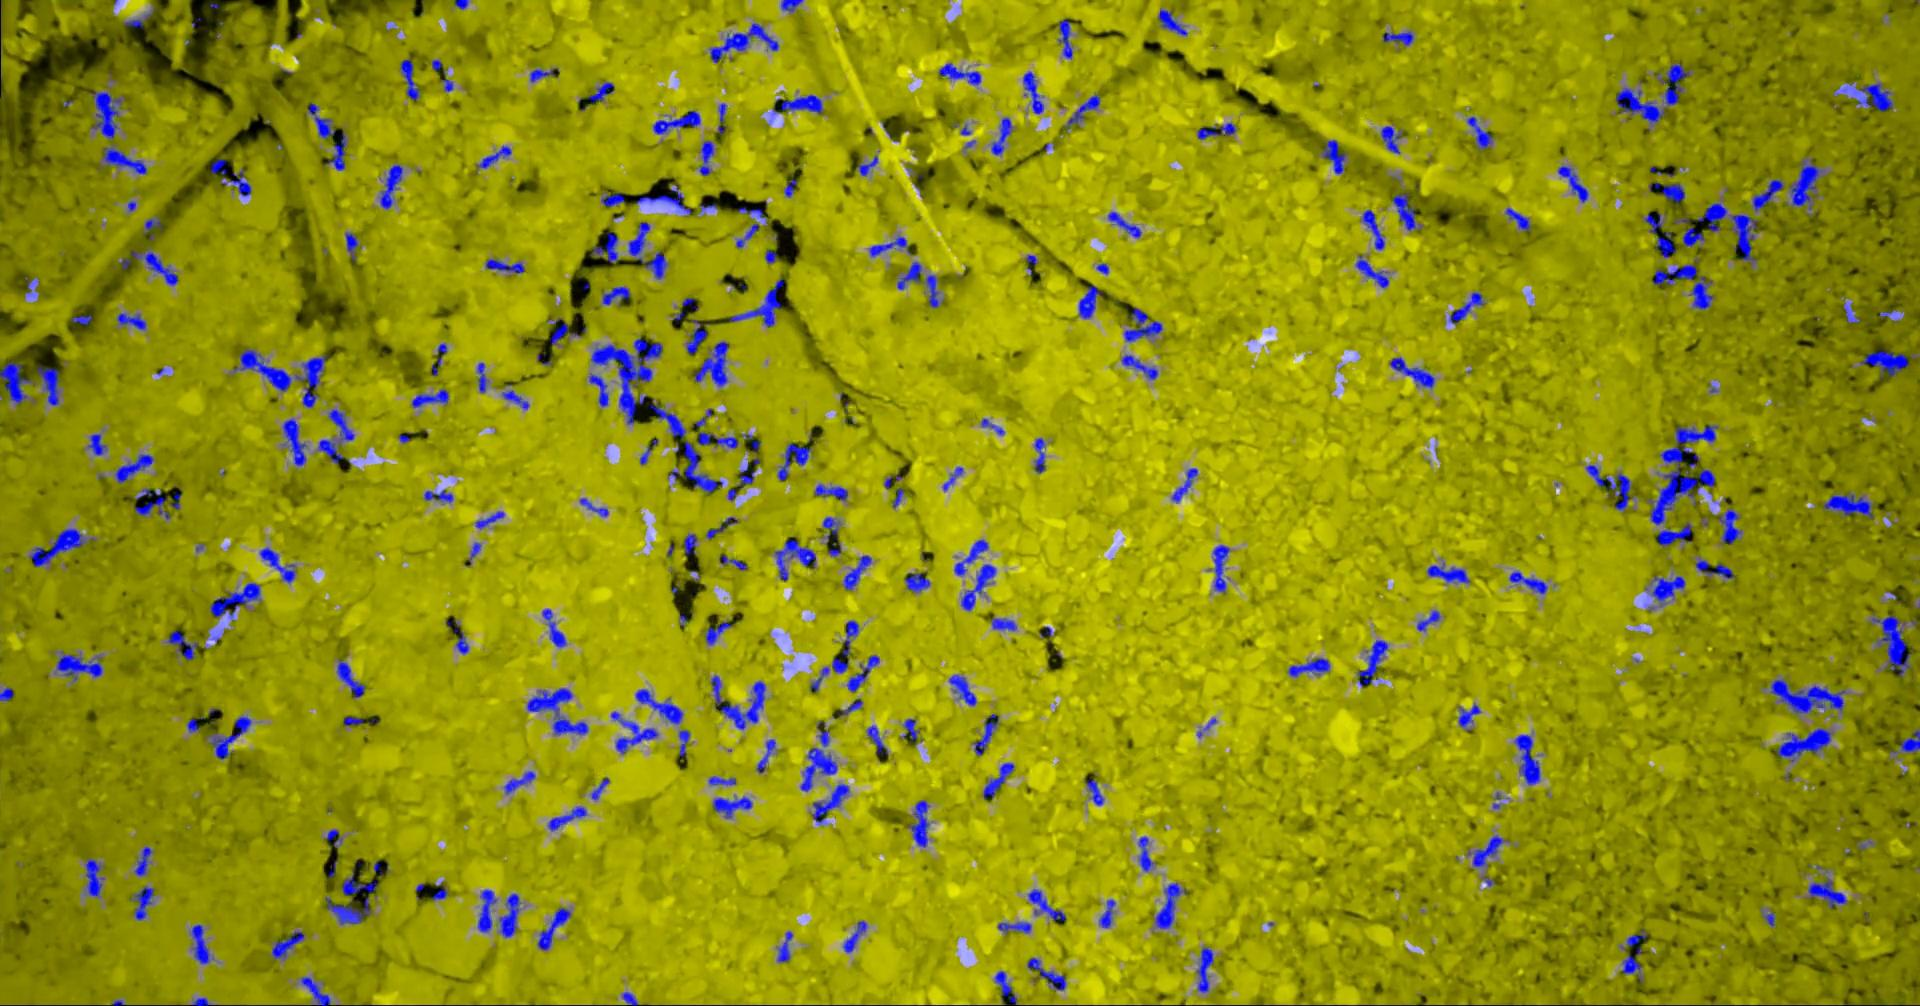ant: (710, 674, 764, 728), (667, 439, 723, 492), (325, 868, 377, 923), (526, 688, 588, 734), (709, 23, 778, 62), (728, 278, 783, 326), (800, 720, 836, 791), (1870, 615, 1910, 676), (629, 221, 667, 279), (897, 260, 943, 307), (1585, 464, 1630, 511), (29, 528, 85, 567), (317, 409, 354, 464), (610, 711, 657, 753), (210, 582, 260, 620), (210, 714, 251, 760), (1777, 727, 1832, 761), (130, 246, 178, 285), (1615, 86, 1665, 123), (775, 539, 815, 580), (960, 564, 996, 610), (635, 688, 682, 723), (88, 91, 121, 138), (210, 158, 250, 196), (1790, 159, 1821, 210), (811, 782, 850, 823), (635, 185, 690, 213), (695, 340, 728, 386), (1154, 882, 1186, 929), (537, 907, 570, 950), (1859, 351, 1912, 377), (1356, 640, 1387, 686), (1389, 357, 1434, 387), (649, 399, 684, 437), (809, 657, 848, 691), (1656, 64, 1689, 104), (56, 652, 102, 681), (1620, 929, 1646, 981), (1514, 734, 1540, 784), (0, 361, 30, 404), (952, 539, 988, 575), (1123, 307, 1162, 340), (1026, 956, 1065, 989), (1822, 494, 1873, 520), (1065, 94, 1100, 131), (777, 442, 810, 480), (1730, 213, 1756, 260), (259, 547, 295, 582), (1029, 888, 1065, 921), (102, 147, 146, 174), (846, 655, 879, 691), (1557, 165, 1589, 202), (983, 762, 1015, 799), (1807, 878, 1846, 907), (282, 418, 306, 465), (1468, 835, 1503, 866), (971, 713, 998, 754), (114, 453, 152, 483), (651, 111, 700, 133), (135, 488, 169, 520), (907, 800, 930, 847), (378, 164, 403, 208), (1854, 83, 1892, 111), (337, 659, 364, 697), (1355, 255, 1388, 287), (1449, 292, 1483, 323), (1392, 193, 1420, 230), (1752, 179, 1783, 211), (499, 893, 521, 937), (843, 555, 871, 589), (309, 103, 335, 138), (36, 365, 58, 405), (1651, 575, 1684, 603), (270, 930, 303, 958), (541, 608, 565, 647), (1465, 116, 1492, 150), (1107, 211, 1142, 238), (547, 318, 582, 344), (1171, 467, 1197, 502), (938, 62, 980, 84), (869, 235, 910, 257), (1652, 264, 1697, 285), (1361, 210, 1384, 249), (190, 923, 213, 963), (1697, 202, 1727, 231), (168, 630, 197, 661), (300, 976, 330, 1005), (1211, 544, 1229, 593), (399, 57, 419, 100), (776, 94, 822, 113), (1657, 521, 1691, 546), (547, 807, 585, 829), (1121, 354, 1157, 379), (1022, 71, 1043, 113), (949, 674, 977, 705), (712, 796, 752, 818), (1717, 508, 1741, 542), (444, 619, 469, 653), (1426, 563, 1469, 582), (1509, 572, 1547, 593), (477, 889, 497, 932), (475, 145, 510, 168), (1288, 657, 1330, 676), (1322, 138, 1345, 173), (994, 970, 1017, 1005), (1158, 9, 1187, 36), (590, 232, 617, 262), (1648, 180, 1684, 202), (842, 920, 866, 951), (1690, 276, 1713, 309), (1078, 285, 1101, 318), (130, 887, 152, 920), (326, 131, 345, 170), (822, 517, 841, 556), (1695, 559, 1735, 578), (990, 117, 1011, 154), (1196, 948, 1213, 992), (697, 431, 738, 448), (411, 387, 448, 406), (686, 319, 706, 353), (504, 770, 535, 793), (705, 517, 737, 539), (85, 857, 103, 895), (735, 459, 759, 486), (588, 373, 608, 406), (841, 620, 858, 655), (1197, 122, 1236, 138), (756, 739, 775, 772), (1505, 207, 1530, 231), (705, 621, 731, 644), (1458, 704, 1481, 730), (587, 81, 615, 103), (1380, 124, 1402, 152), (485, 258, 524, 273), (867, 725, 888, 754), (814, 483, 847, 500), (1058, 19, 1072, 58), (1138, 836, 1153, 871), (135, 846, 152, 876), (430, 343, 447, 375), (735, 224, 758, 246), (475, 511, 504, 528), (1655, 231, 1675, 257), (904, 572, 930, 592), (502, 390, 528, 409), (1084, 779, 1103, 805), (116, 312, 146, 329), (776, 931, 792, 962), (698, 140, 712, 175), (602, 286, 630, 304), (579, 498, 607, 516), (942, 466, 963, 490), (1681, 226, 1704, 246), (1416, 610, 1439, 630), (1898, 729, 1919, 752), (123, 13, 151, 29), (1098, 899, 1115, 927), (1382, 30, 1413, 44), (856, 155, 877, 175), (143, 216, 163, 239), (639, 439, 657, 464), (530, 67, 557, 83), (717, 554, 745, 569), (590, 777, 610, 799), (1034, 437, 1045, 473), (902, 718, 919, 741), (838, 700, 862, 716), (1644, 212, 1663, 232), (692, 408, 712, 427), (88, 433, 105, 455), (982, 418, 1004, 434), (423, 489, 452, 502), (678, 729, 690, 760), (997, 922, 1031, 932), (742, 433, 759, 452), (599, 192, 623, 206), (737, 206, 766, 217), (342, 716, 378, 725), (990, 617, 1016, 630), (345, 232, 357, 260), (1843, 304, 1859, 323), (477, 362, 488, 392), (325, 829, 342, 847), (169, 488, 182, 509), (683, 533, 696, 555), (430, 884, 447, 901), (717, 103, 726, 133), (780, 0, 803, 11), (187, 715, 202, 732), (469, 542, 480, 564), (783, 178, 796, 197), (709, 776, 735, 785), (71, 314, 91, 325), (891, 486, 903, 507), (621, 991, 637, 1005), (884, 475, 902, 488), (681, 297, 697, 309), (1763, 911, 1774, 926), (0, 687, 13, 700), (764, 249, 776, 263), (192, 997, 208, 1005), (455, 0, 469, 9)
